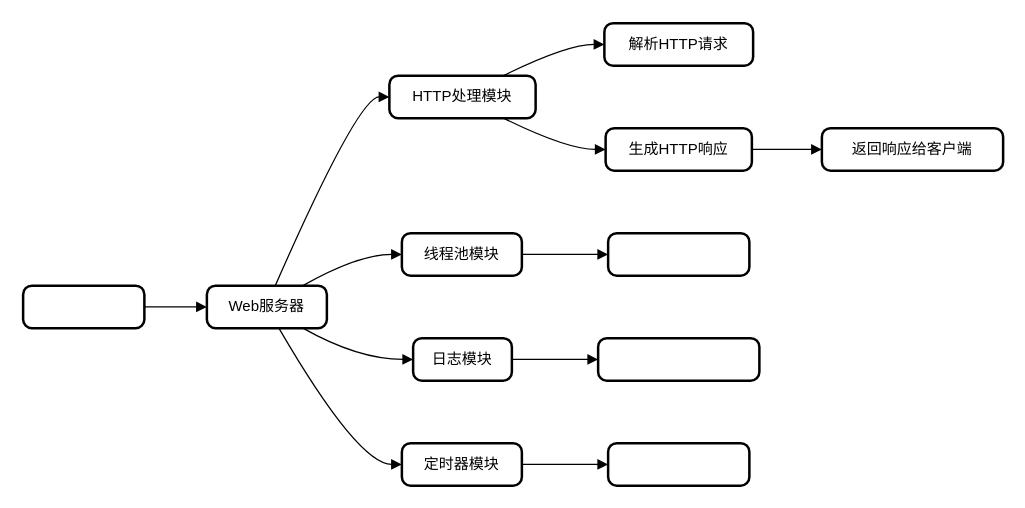
This 1025x508 diagram has some shape labels left out. The shapes that lost their labels are listed below. From the top down, each one's box as (x1, y1, x2, y2) in pixels, then its label:
(606, 231, 750, 276): 处理并发请求
(21, 284, 145, 329): 客户端请求
(596, 336, 760, 381): 记录服务器日志
(606, 441, 750, 486): 管理连接超时
